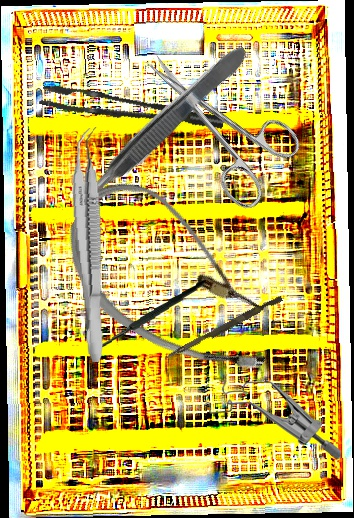Cannula: (41, 163, 310, 398)
Hook Surgical: (84, 279, 211, 365)
Iris Scissors: (121, 24, 312, 215)
Pusher: (164, 292, 283, 365)
Speculum: (204, 378, 341, 461)
Tissue Forceps: (67, 40, 256, 214), (38, 67, 226, 154), (65, 127, 119, 363)
